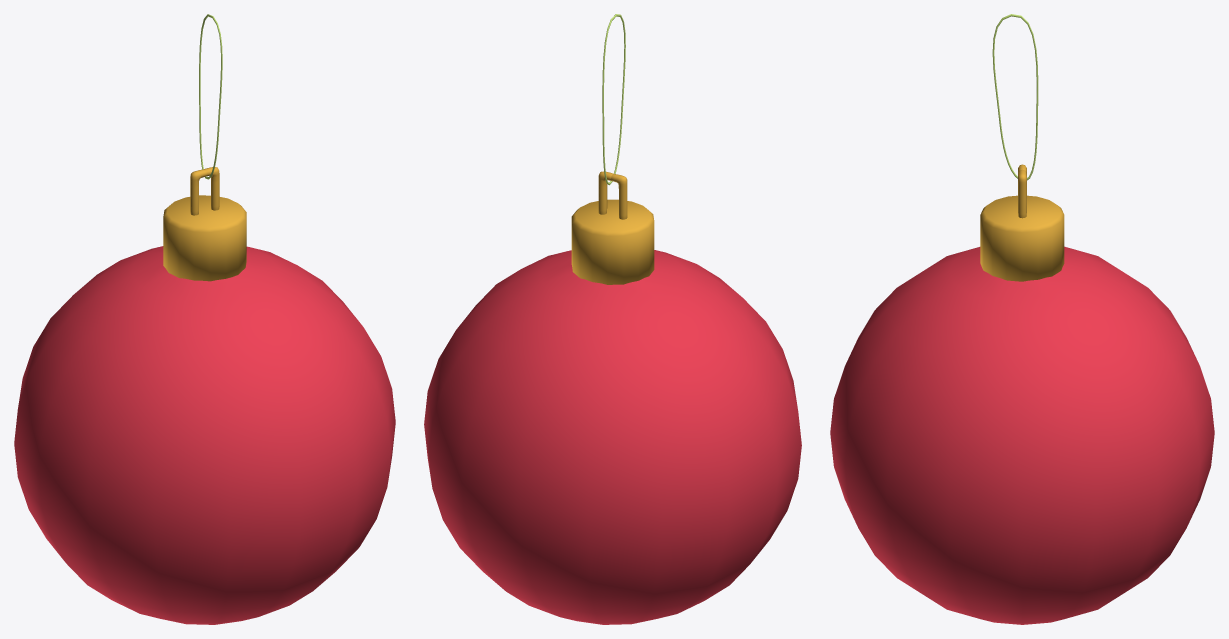
File: TOY1.fbx_Scene.fbx
The picture shows the model from 3 angles, left to right: view 1: azimuth 30°, elevation 25°; view 2: azimuth 150°, elevation 25°; view 3: azimuth 270°, elevation 25°; orthographic projection.
Visible parts, largest first — view 1: christmastoy, kant.001, TREAD; view 2: christmastoy, kant.001, TREAD; view 3: christmastoy, kant.001, TREAD.
Part boxes in pixels (<box>): christmastoy: <box>14,246,395,624</box>; kant.001: <box>163,167,246,281</box>; TREAD: <box>199,14,222,179</box>; christmastoy: <box>424,250,801,624</box>; kant.001: <box>571,171,654,284</box>; TREAD: <box>602,14,625,185</box>; christmastoy: <box>830,246,1214,624</box>; kant.001: <box>980,164,1064,281</box>; TREAD: <box>992,14,1038,180</box>.
Bounding box in the file's own units: 0.46 × 0.7844 × 0.46.
